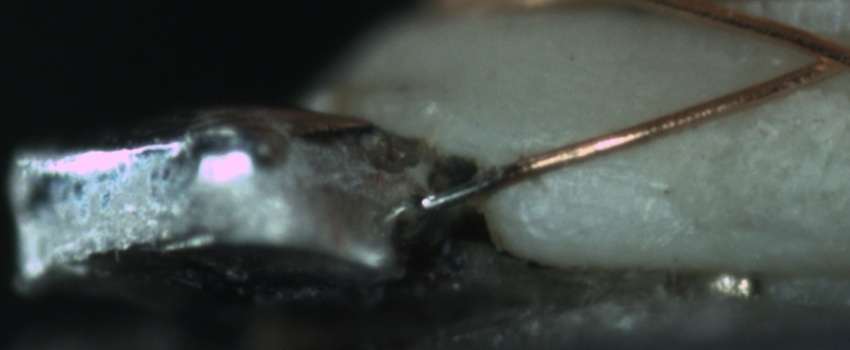CL: (792, 30, 848, 84)
TS: (410, 166, 520, 212)
TTCW: (411, 156, 539, 212)
